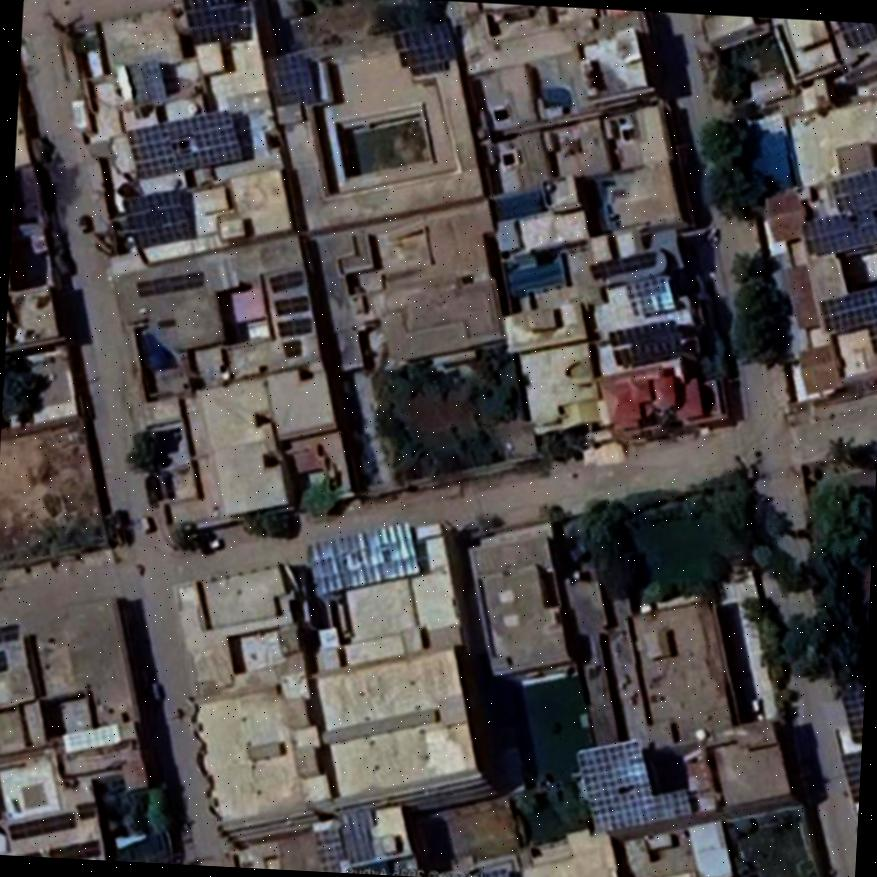Solarpanel: (577, 730, 693, 831), (125, 111, 238, 180), (791, 172, 877, 254), (124, 191, 192, 247), (608, 321, 682, 365), (263, 54, 318, 107), (817, 286, 877, 333), (393, 21, 457, 64), (183, 0, 241, 45), (587, 250, 655, 279), (137, 273, 203, 296), (839, 690, 864, 742), (840, 752, 860, 801), (838, 20, 877, 45), (316, 830, 342, 864), (268, 270, 303, 291), (275, 297, 310, 315), (277, 319, 311, 336), (470, 869, 510, 877), (282, 341, 300, 355)
